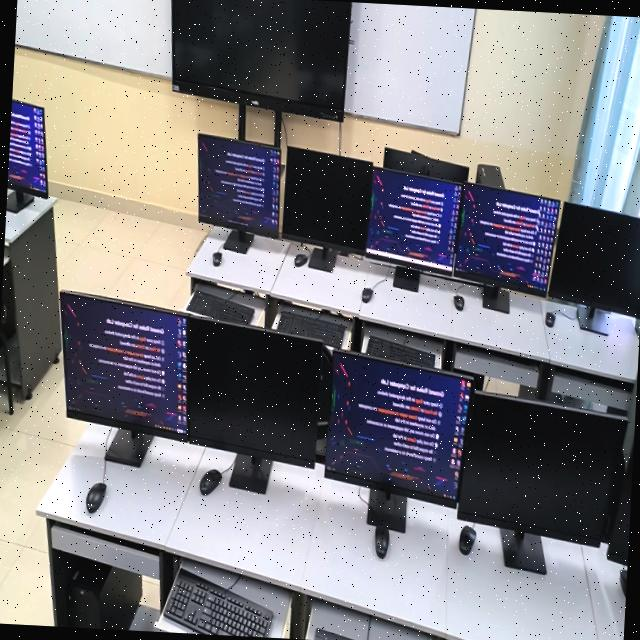Chair: (0, 290, 18, 413)
Cpu: (50, 550, 144, 631), (476, 163, 504, 188)
Digital board: (171, 0, 350, 138)
Keyboard: (160, 567, 272, 638), (272, 300, 354, 346), (184, 281, 264, 325), (365, 333, 436, 368), (312, 627, 404, 640)
Monitor: (456, 389, 628, 546), (322, 347, 474, 508), (180, 314, 324, 466), (53, 290, 194, 440), (452, 182, 560, 296), (546, 200, 640, 320), (365, 165, 462, 277), (281, 145, 374, 255), (194, 134, 284, 238), (6, 96, 52, 198), (605, 429, 635, 574), (382, 146, 469, 182)
Mouse: (85, 481, 106, 513), (199, 468, 221, 495), (458, 524, 476, 554), (373, 524, 389, 557), (618, 568, 628, 602), (293, 252, 307, 266), (452, 293, 463, 310), (362, 287, 372, 302), (212, 251, 222, 265), (545, 312, 555, 326)
